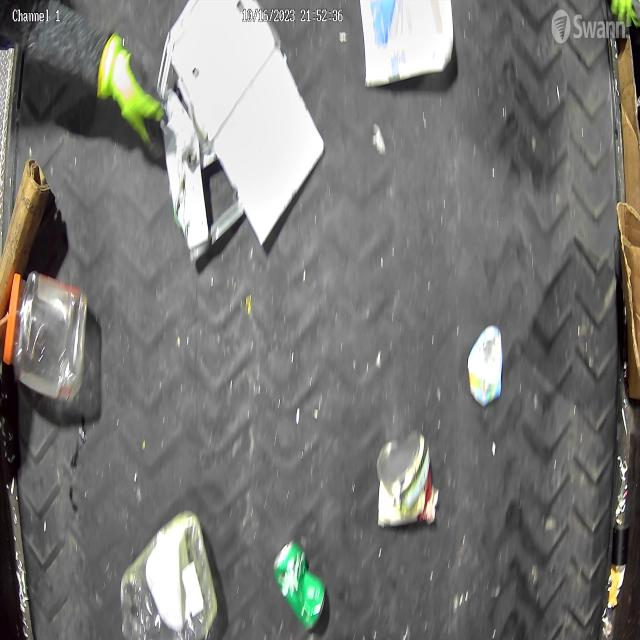can: (375, 426, 440, 537), (271, 536, 332, 634)
